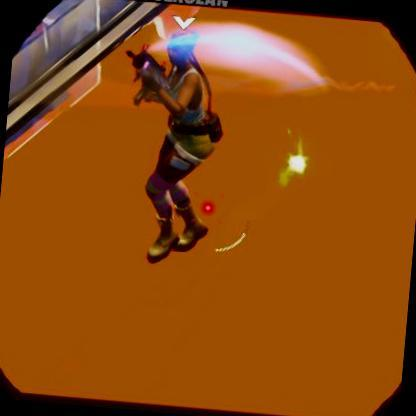person: (118, 33, 235, 266)
